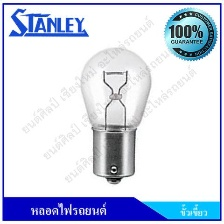light_bulb: (78, 43, 154, 186)
